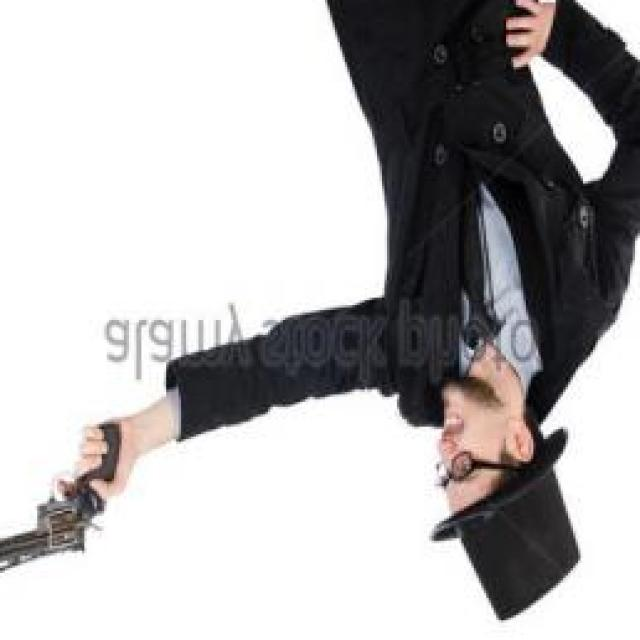pistol: (0, 422, 124, 583)
